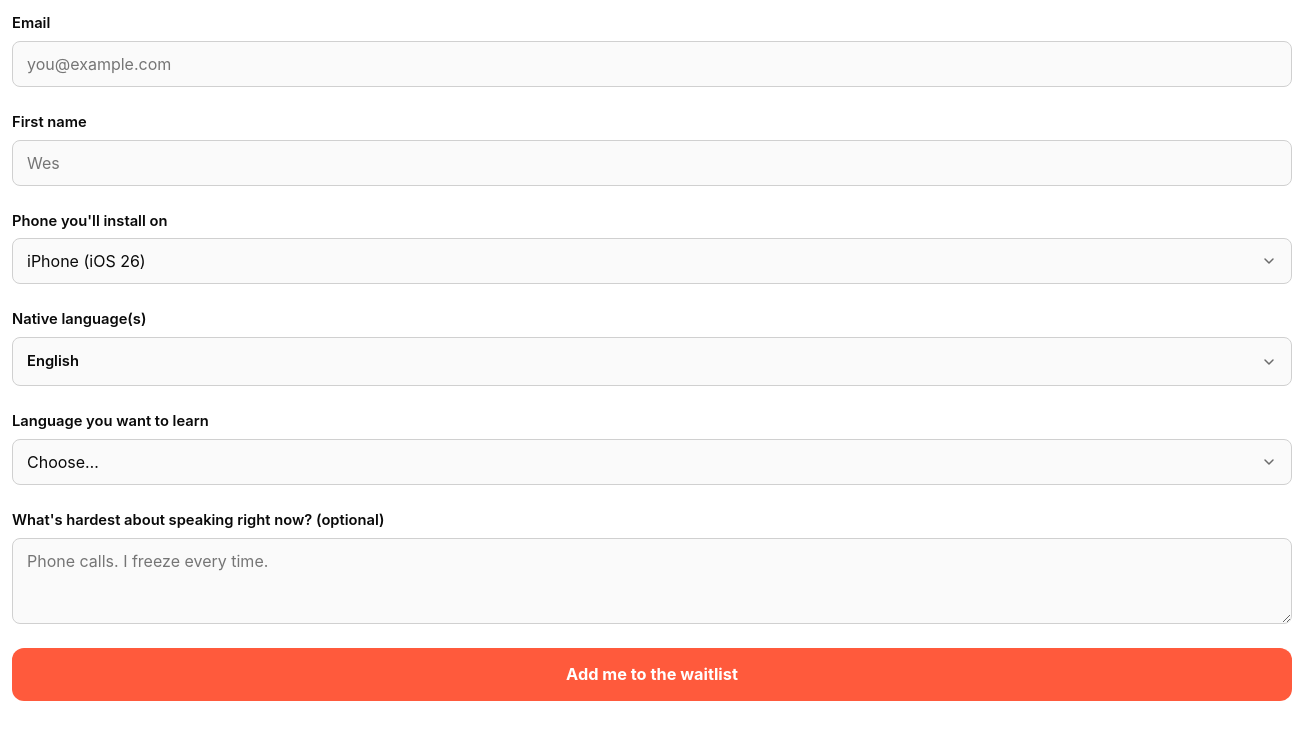
Scenario: WaitlistForm › closes the multi-select panel on Escape
The width and height of the screenshot is (1304, 732).
Click the button "English" at (53, 361), box x1=12 y1=337 x2=1292 y2=386
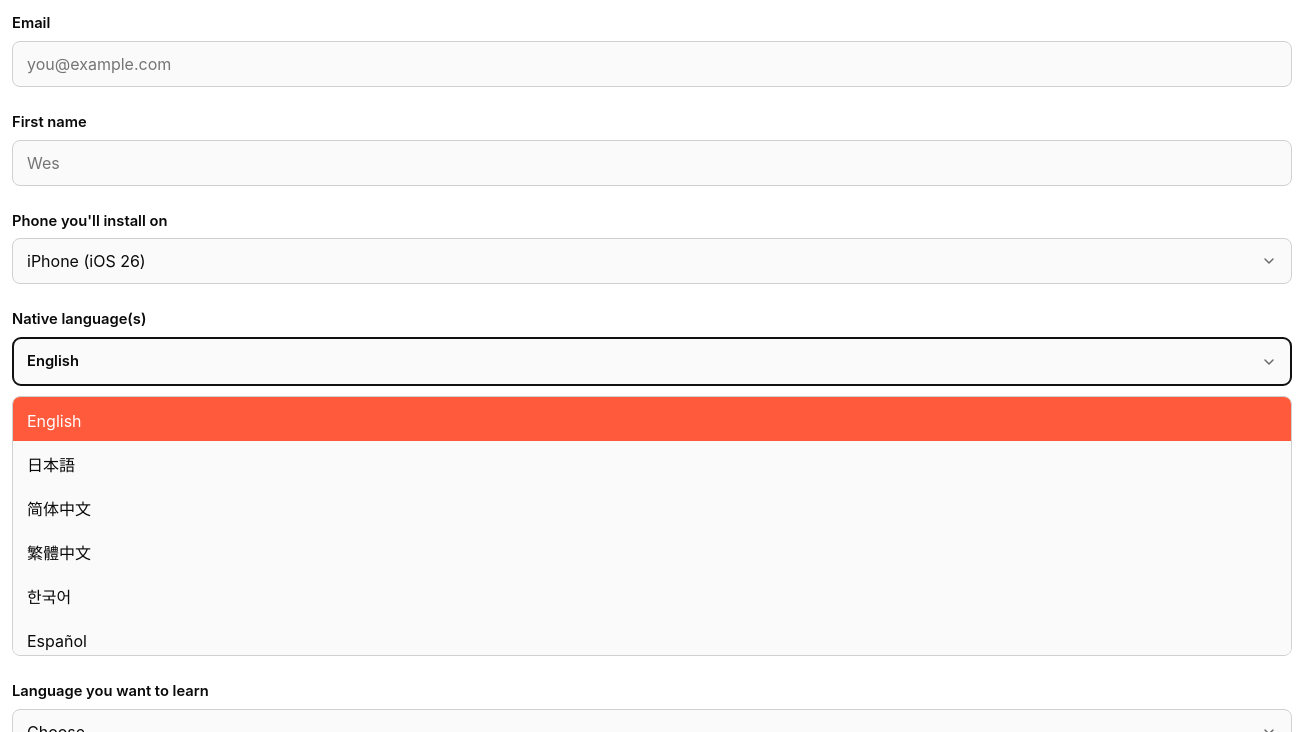
Expected: the list is shown, x1=12 y1=396 x2=1292 y2=656
Press Escape
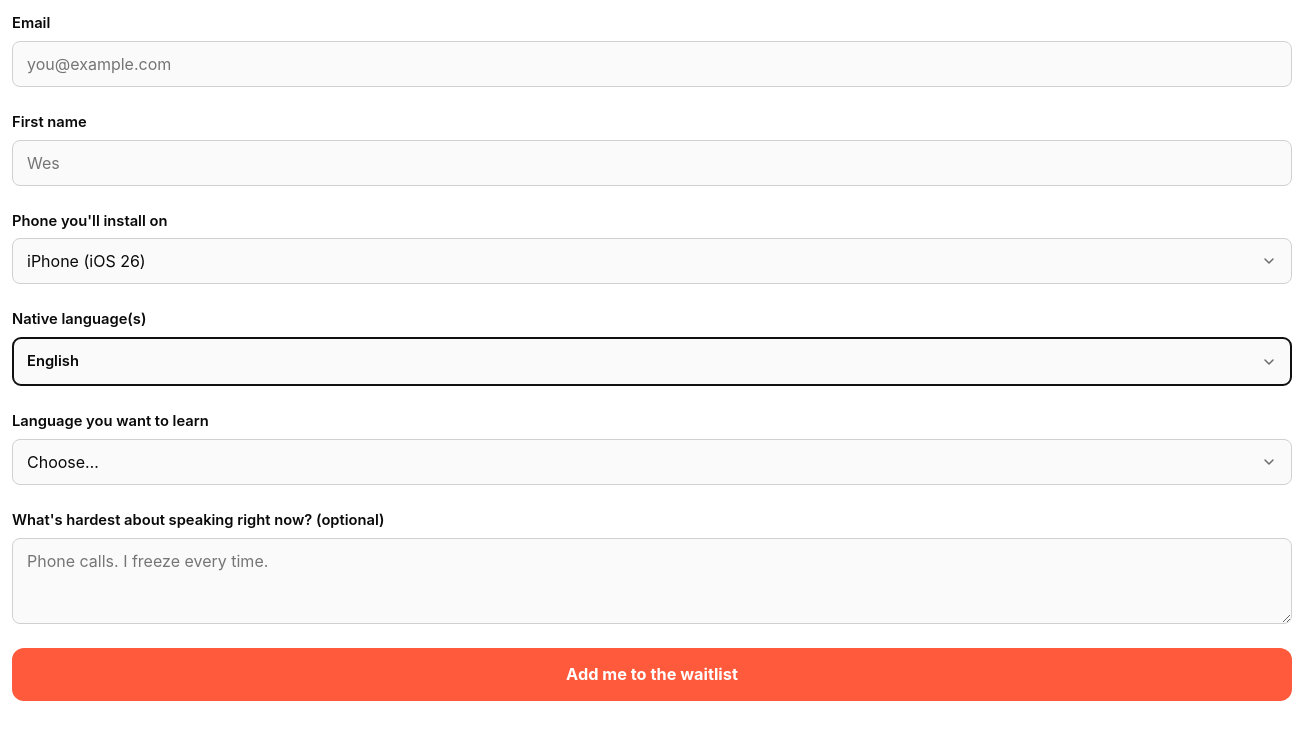
Expected: the list is gone
